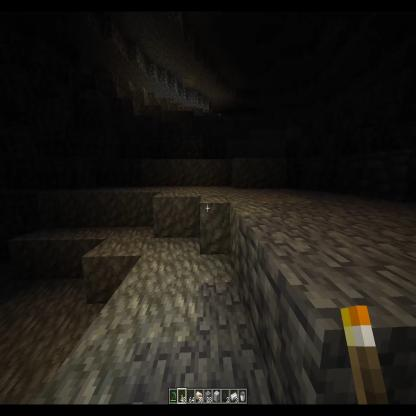gold ore: (188, 73, 197, 82), (190, 80, 198, 87), (183, 80, 189, 88)
